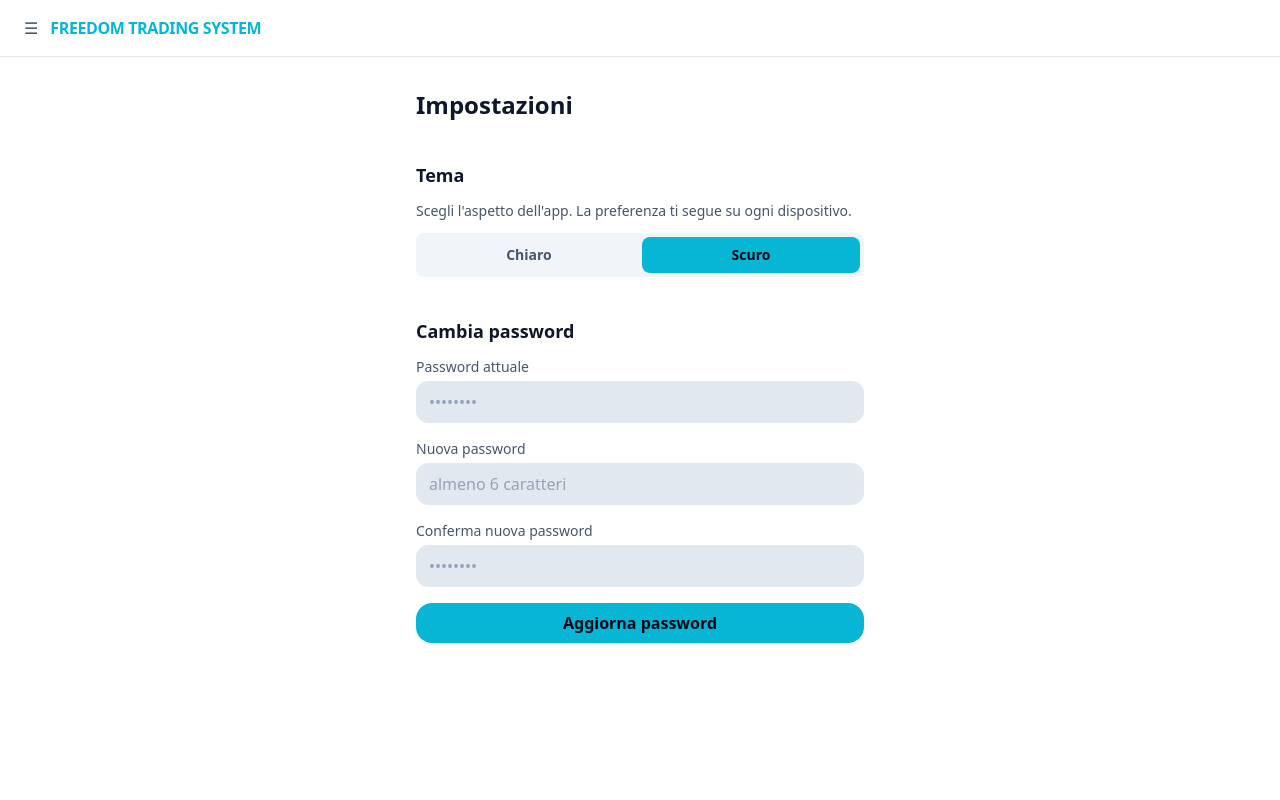
Scenario: Settings — tema › se il salvataggio fallisce mostra errore e fa rollback
This screenshot has width=1280, height=800.
Click the button "Chiaro": (529, 255) [420, 237, 638, 273]
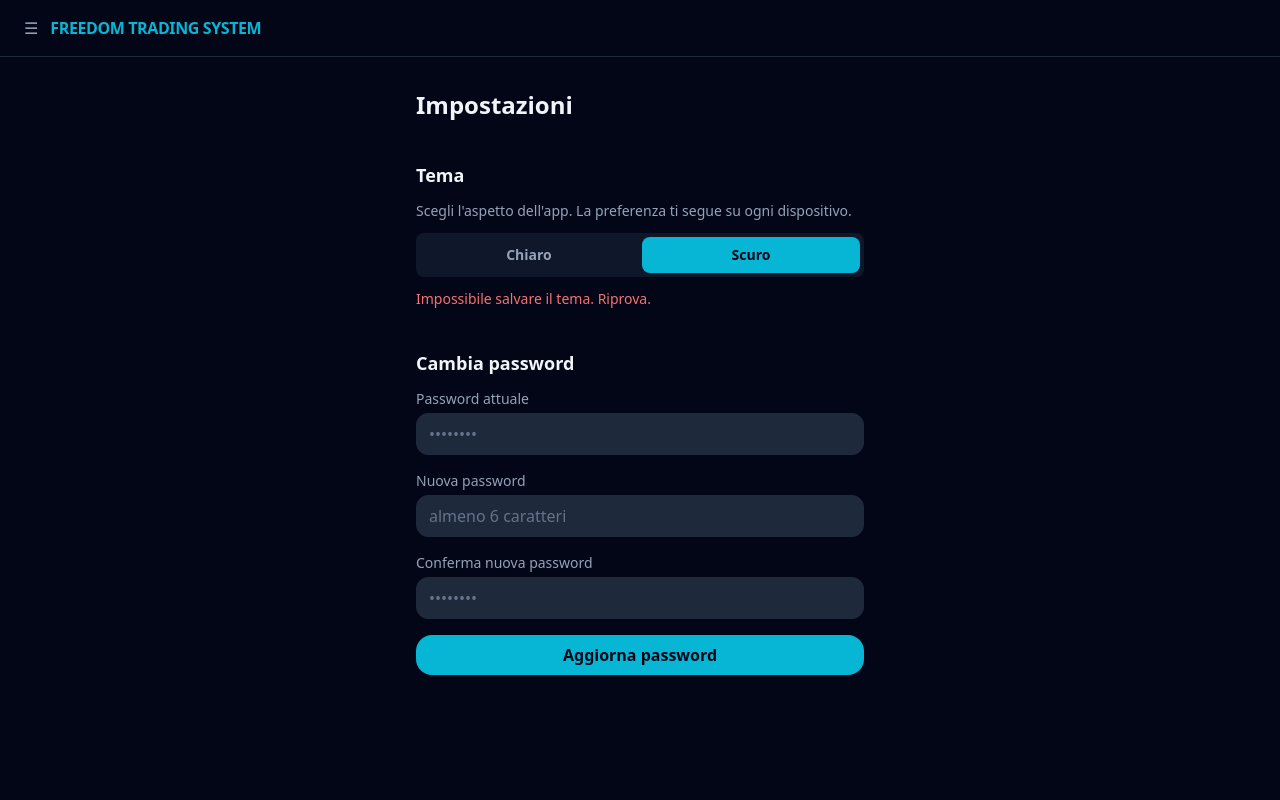
Now the message shows "Impossibile salvare il tema", box [416, 289, 651, 308]
